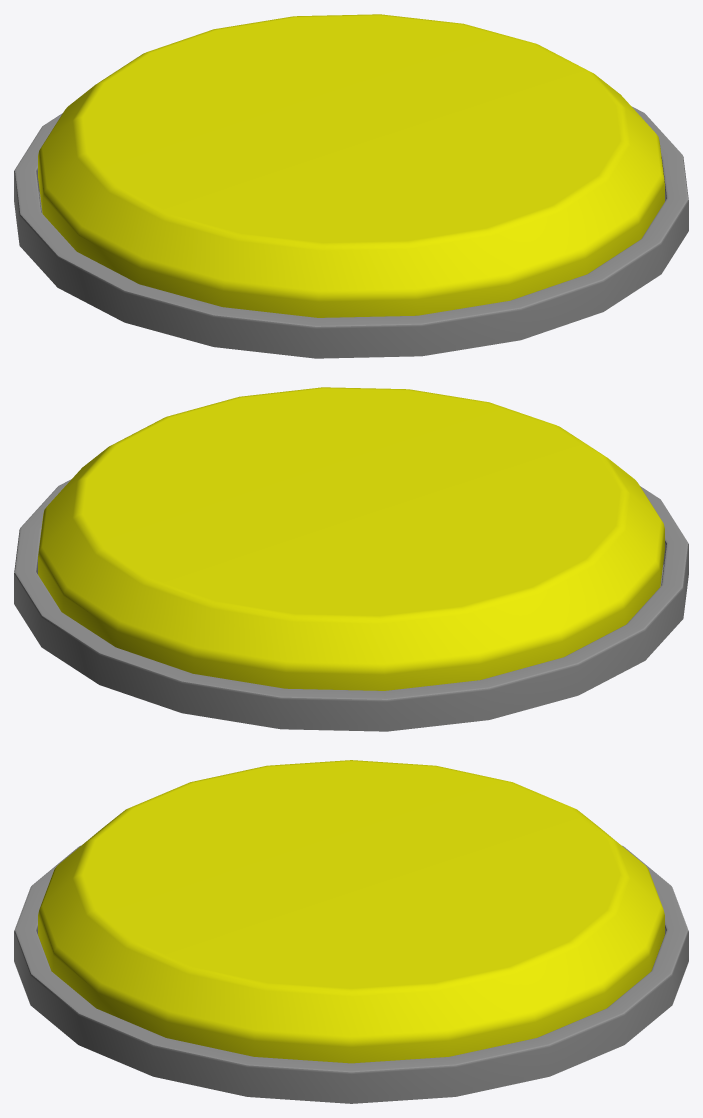
Rendered from BigButtonYellow.fbx.
3 views of the same model, one above another, from view 1: azimuth 30°, elevation 25°; view 2: azimuth 150°, elevation 25°; view 3: azimuth 270°, elevation 25° (orthographic).
Parts seen in each view (by area): view 1: ButtonTopYellow, ButtonBottomYellow; view 2: ButtonTopYellow, ButtonBottomYellow; view 3: ButtonTopYellow, ButtonBottomYellow.
Boxes of the visible parts, left/top/right/bottom form: ButtonTopYellow: left=38, top=14, right=664, bottom=317; ButtonBottomYellow: left=14, top=106, right=688, bottom=358; ButtonTopYellow: left=38, top=387, right=664, bottom=690; ButtonBottomYellow: left=14, top=479, right=688, bottom=731; ButtonTopYellow: left=38, top=760, right=664, bottom=1063; ButtonBottomYellow: left=14, top=845, right=688, bottom=1103.
Size of the model in its own units: 11.11 by 1.57 by 11.11.
